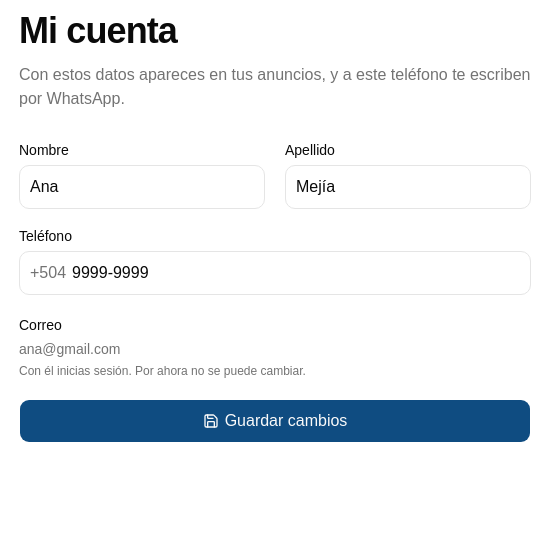
Test: AccountPage › guarda el teléfono corregido y dice que sus anuncios ya lo muestran
Type "88880000" into the field labelled "Teléfono".
click(298, 273); type("88880000")  # box [66,252,530,294]
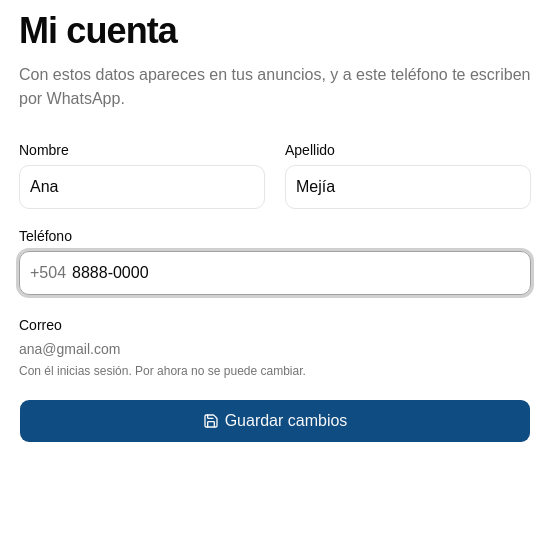
Click the button "Guardar cambios".
click(275, 421)  # box [19,399,531,443]
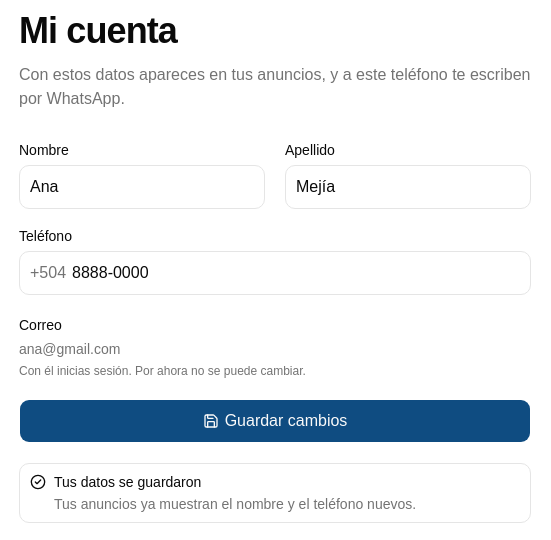
Now the message shows "Tus datos se guardaron", box [54,474,201,490]
Now the message shows "Tus anuncios ya muestran el nombre y el teléfono nuevos.", box [54,496,416,512]
